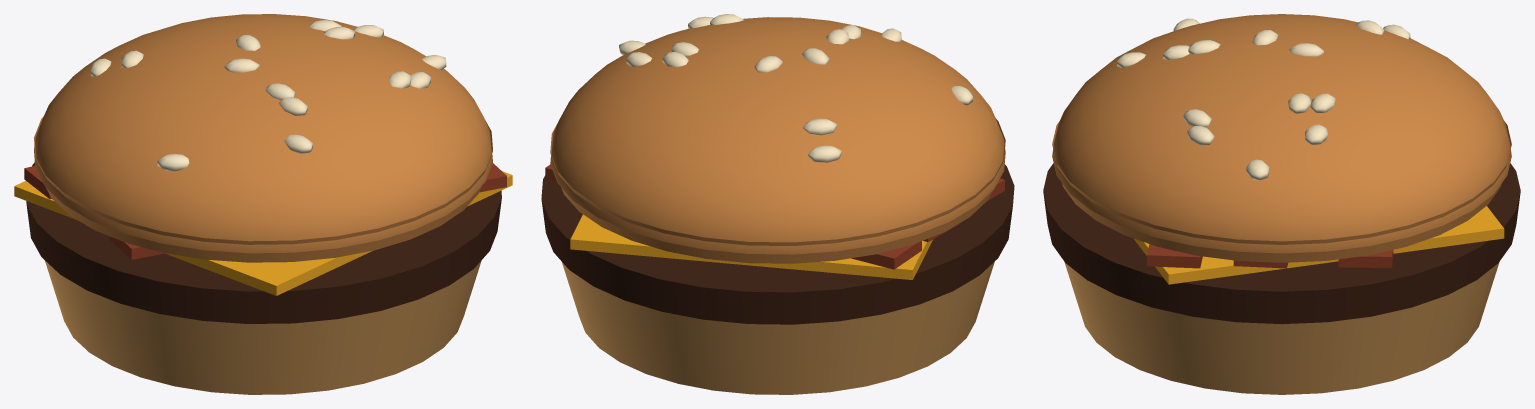
The model's file is burger-kids.glb.
The picture shows the model from 3 angles, left to right: view 1: azimuth 30°, elevation 25°; view 2: azimuth 150°, elevation 25°; view 3: azimuth 270°, elevation 25°; orthographic projection.
Bounding box in the file's own units: 0.1393 × 0.085 × 0.1393.
